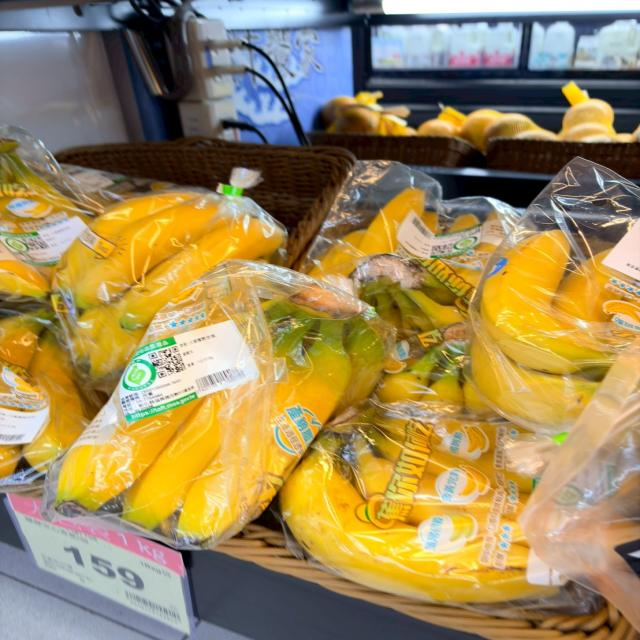banana: (18, 156, 630, 593), (88, 278, 347, 552), (292, 374, 564, 606), (312, 190, 528, 408), (476, 225, 640, 438), (75, 181, 266, 356)
